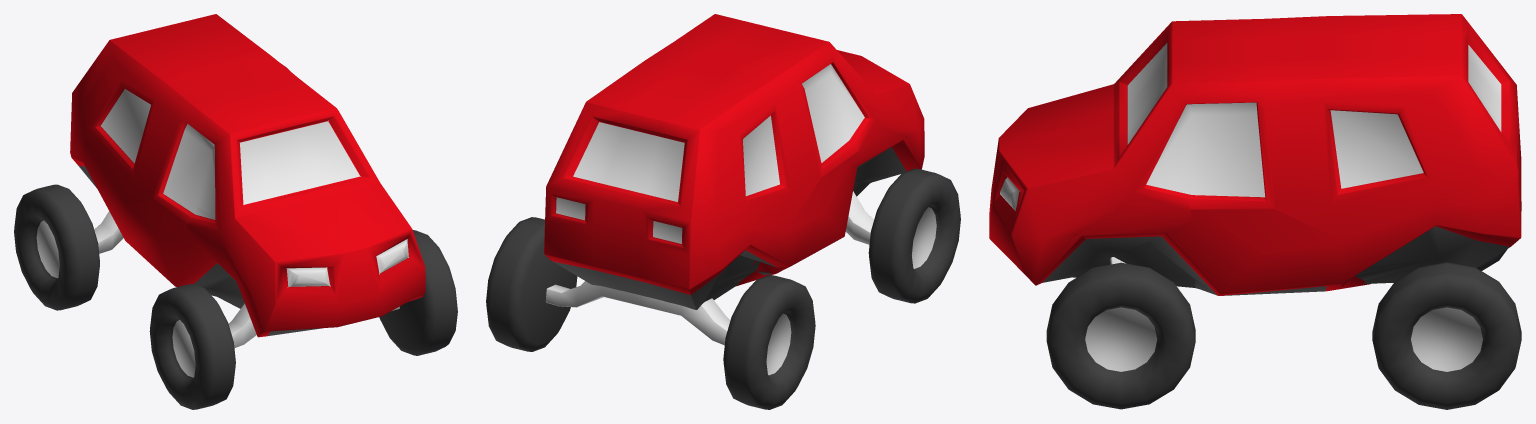
File: Off-Road Vehicle2.fbx
3 views of the same model, side by side, from view 1: azimuth 30°, elevation 25°; view 2: azimuth 150°, elevation 25°; view 3: azimuth 270°, elevation 25° (orthographic). The views are drawn at different scales.
Parts seen in each view (by area): view 1: Car2, Right Rear Wheel.001, Right Wheel.001, Left Wheel.001; view 2: Car2, Right Rear Wheel.001, Right Wheel.001, Left Rear Wheel.001; view 3: Car2, Left Rear Wheel.001, Left Wheel.001.
Boxes of the visible parts, box(x1,y1,x2,y2) form: Car2: box(70, 14, 425, 348); Right Rear Wheel.001: box(14, 184, 99, 310); Right Wheel.001: box(149, 284, 235, 409); Left Wheel.001: box(379, 230, 457, 355); Car2: box(544, 14, 924, 345); Right Rear Wheel.001: box(723, 275, 815, 409); Right Wheel.001: box(868, 168, 960, 303); Left Rear Wheel.001: box(486, 217, 577, 351); Car2: box(989, 14, 1521, 295); Left Rear Wheel.001: box(1372, 262, 1521, 409); Left Wheel.001: box(1046, 262, 1195, 409).
Size of the model in its own units: 3.15 by 2.9 by 4.75.
